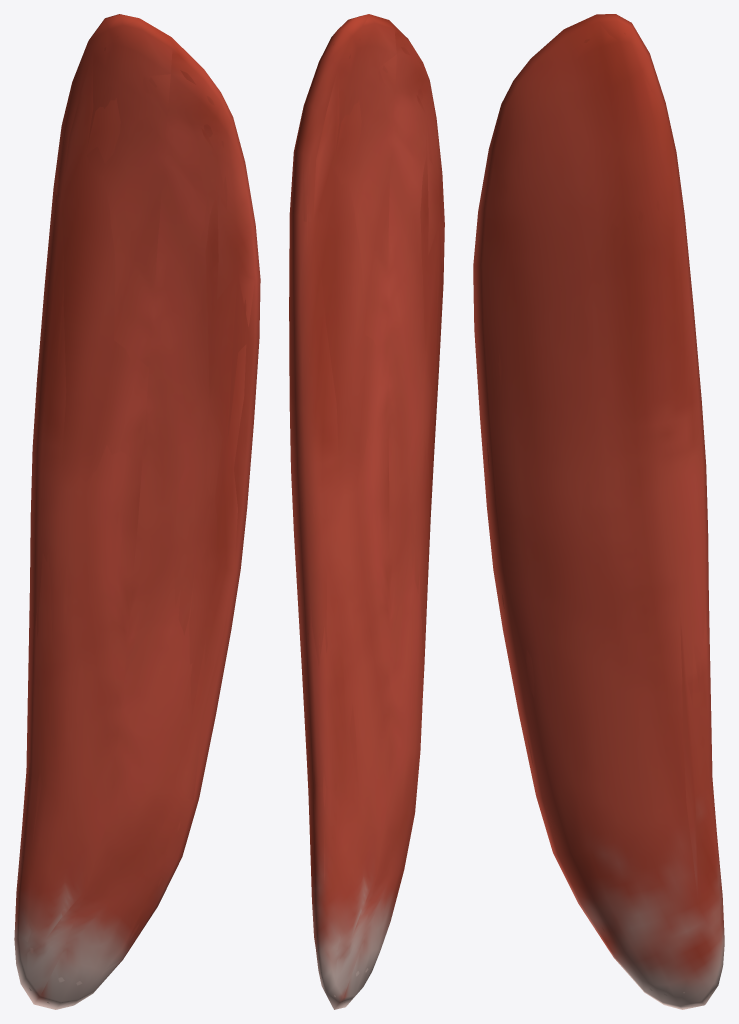
File: L tensor fasciae antebrachii.fbx
3 renders of one model, left to right at view 1: azimuth 90°, elevation 25°; view 2: azimuth 150°, elevation 25°; view 3: azimuth 270°, elevation 25°, orthographic. The views are drawn at different scales.
Parts seen in each view (by area): view 1: L tensor fasciae antebrachii, L tensor fasciae antebrachii low, L tensor fasciae antebrachii high; view 2: L tensor fasciae antebrachii, L tensor fasciae antebrachii low, L tensor fasciae antebrachii high; view 3: L tensor fasciae antebrachii, L tensor fasciae antebrachii low, L tensor fasciae antebrachii high.
Boxes of the visible parts, x1,y1,x2,y2 form: L tensor fasciae antebrachii: (14,14,260,1009); L tensor fasciae antebrachii low: (19,15,260,1009); L tensor fasciae antebrachii high: (21,33,255,1003); L tensor fasciae antebrachii: (289,14,444,1009); L tensor fasciae antebrachii low: (290,14,444,1006); L tensor fasciae antebrachii high: (291,34,441,1002); L tensor fasciae antebrachii: (473,14,724,1009); L tensor fasciae antebrachii low: (503,15,718,1009); L tensor fasciae antebrachii high: (487,32,718,995).
Bounding box in the file's own units: 1.46 × 15.71 × 3.56.
